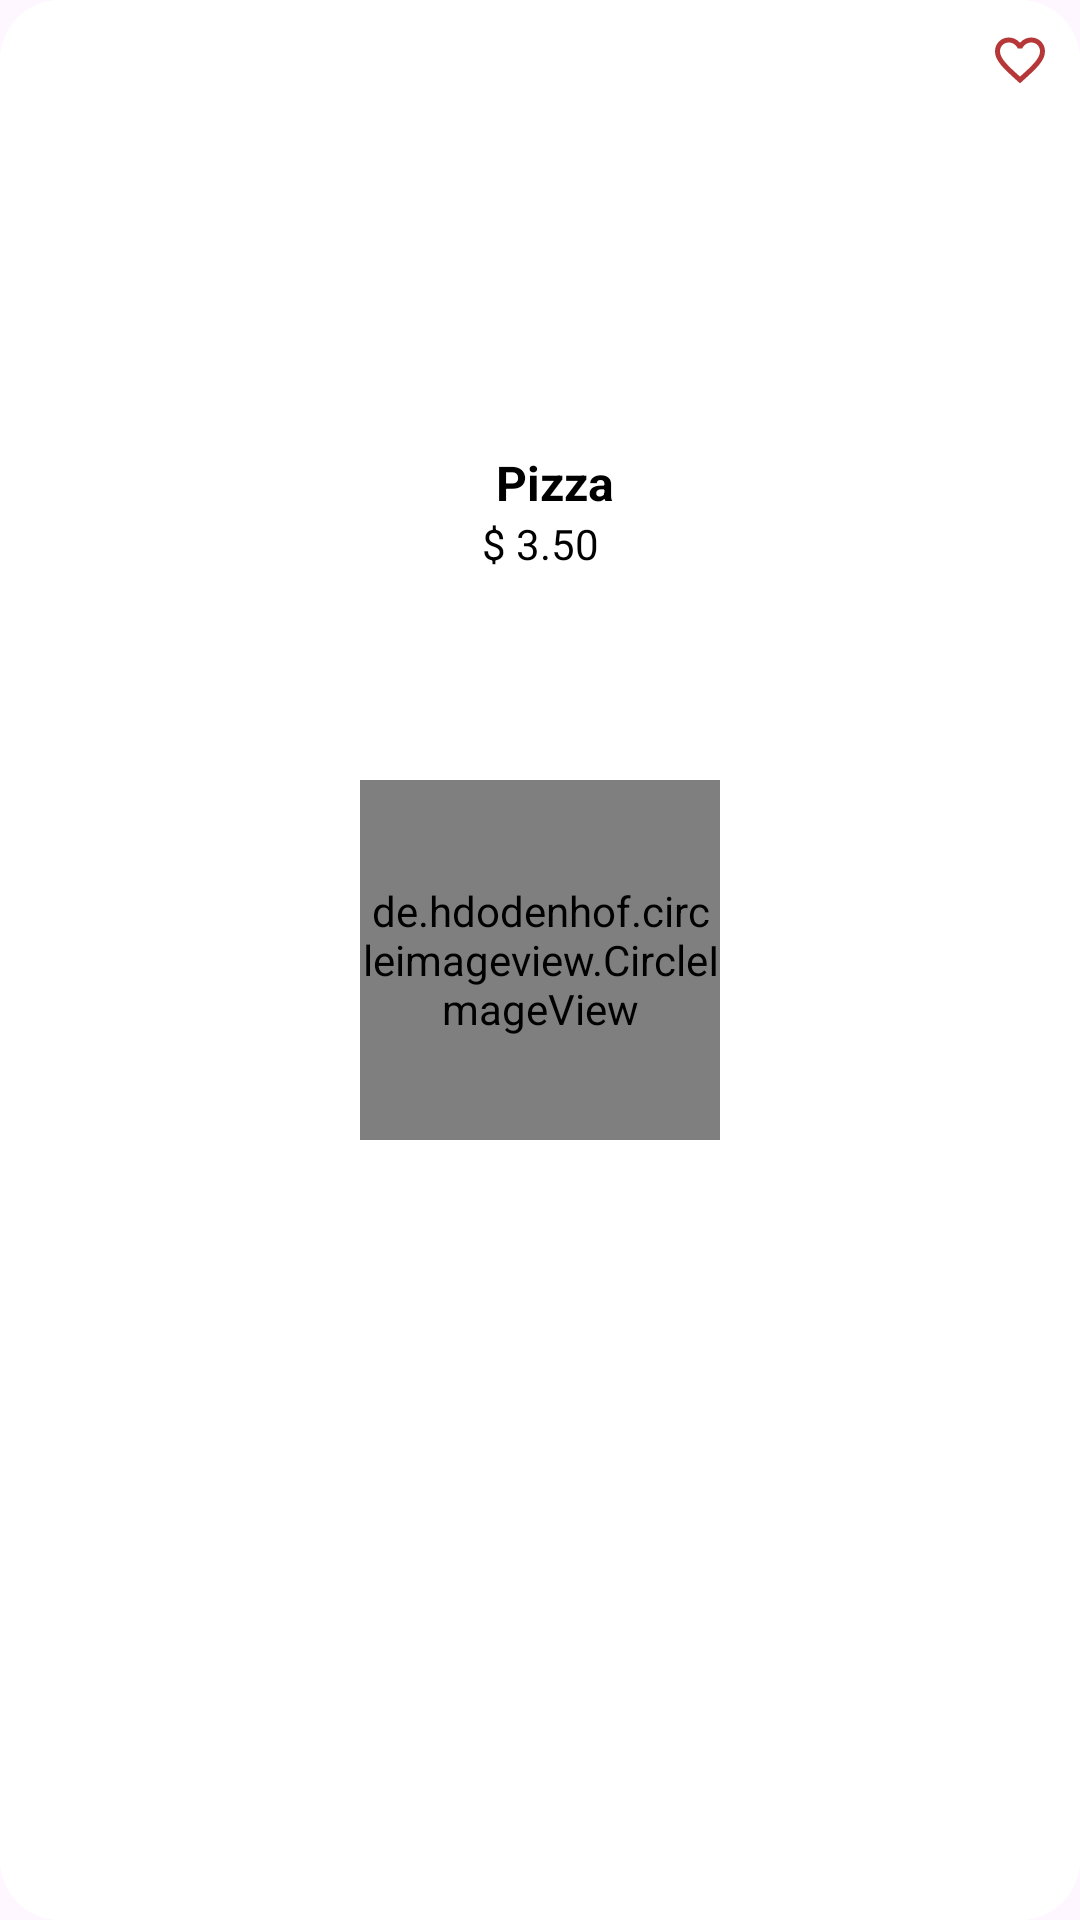

Icon click points for this 1080 x 1920 phone screenshot, format [x,y]:
favorite: [1020,60]
